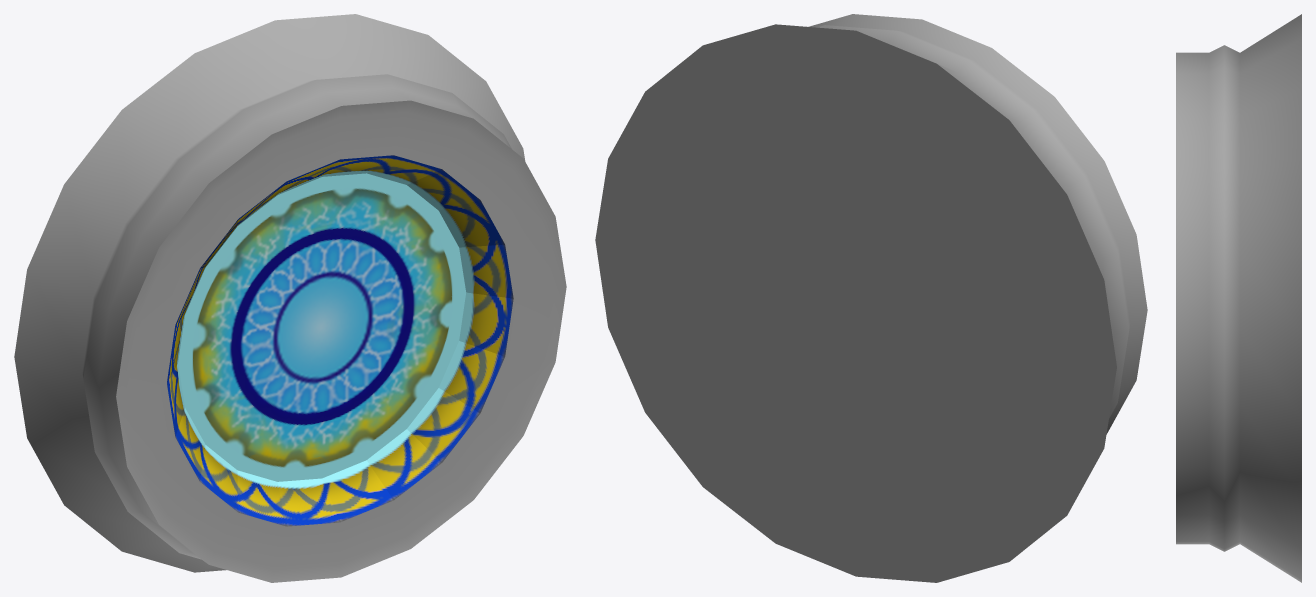
Rendered from teleporter.fbx.
3 views of the same model, side by side, from view 1: azimuth 30°, elevation 25°; view 2: azimuth 150°, elevation 25°; view 3: azimuth 270°, elevation 25° (orthographic). The views are drawn at different scales.
Parts seen in each view (by area): view 1: pCylinder1; view 2: pCylinder1; view 3: pCylinder1.
Part boxes in pixels (box(x1,y1,x2,y2)): pCylinder1: box(14, 14, 566, 582); pCylinder1: box(595, 14, 1147, 582); pCylinder1: box(1176, 14, 1301, 582).
Bounding box in the file's own units: 4.63 × 4.63 × 1.02.
